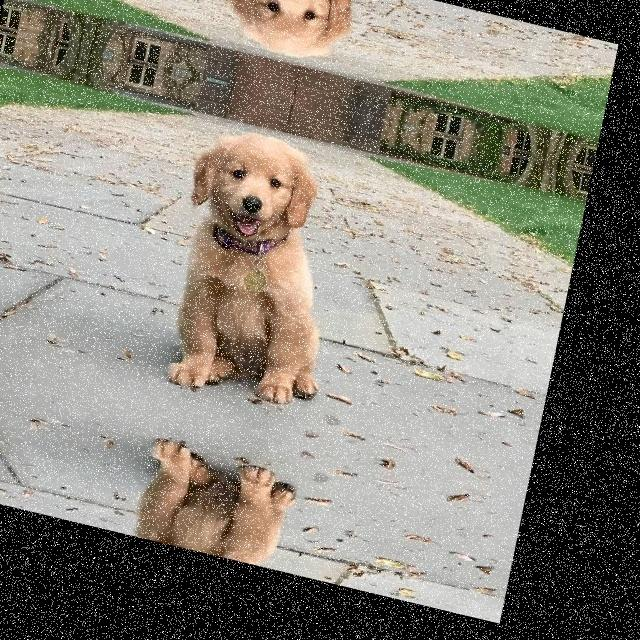dog: (170, 111, 336, 268), (208, 0, 368, 78)
